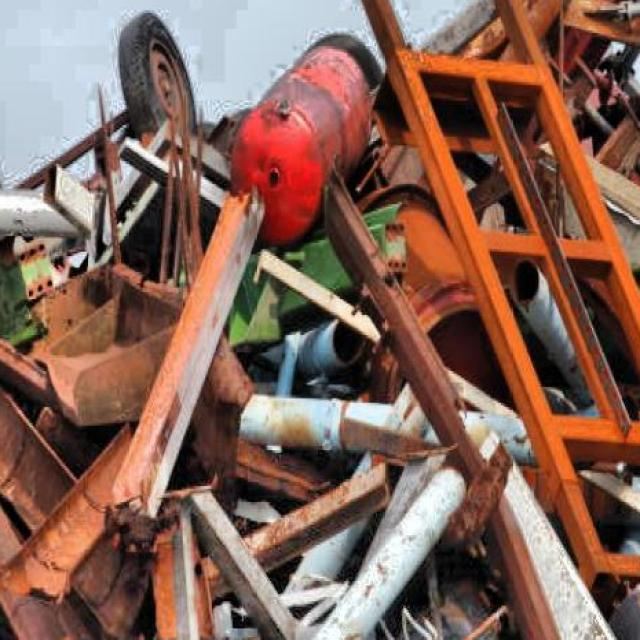cylinder: (230, 34, 384, 246)
